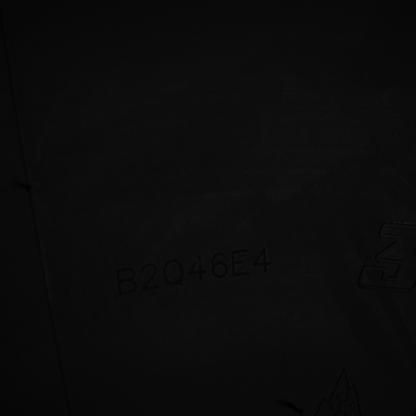ocr: (115, 245, 274, 301)
